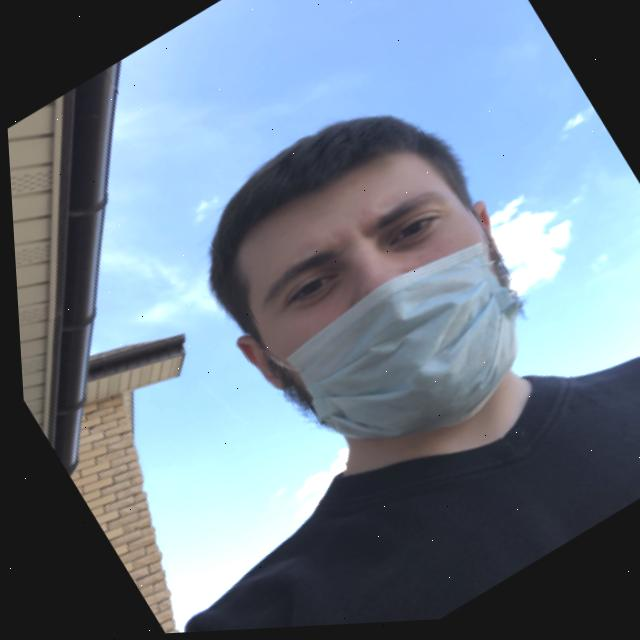Mask: (251, 211, 569, 494)
